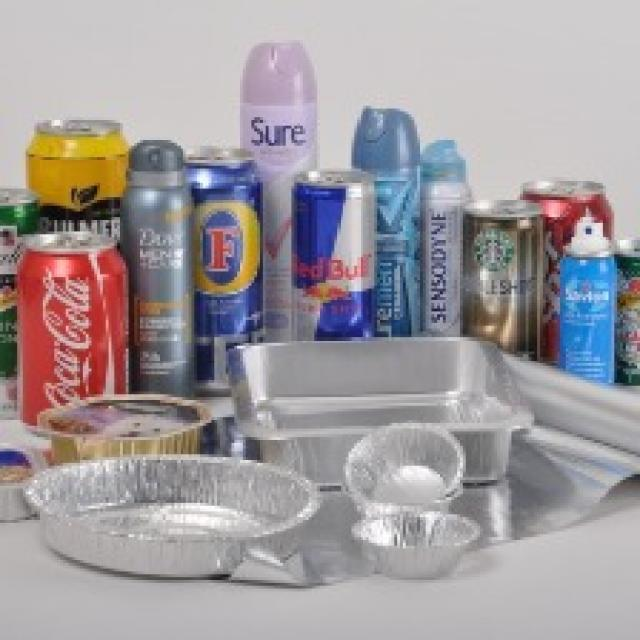metel: (13, 238, 153, 439), (290, 170, 379, 346), (188, 153, 260, 341), (555, 205, 619, 397), (16, 113, 121, 217), (421, 140, 463, 342)
others: (214, 333, 542, 462), (29, 450, 325, 591), (346, 524, 493, 585)
